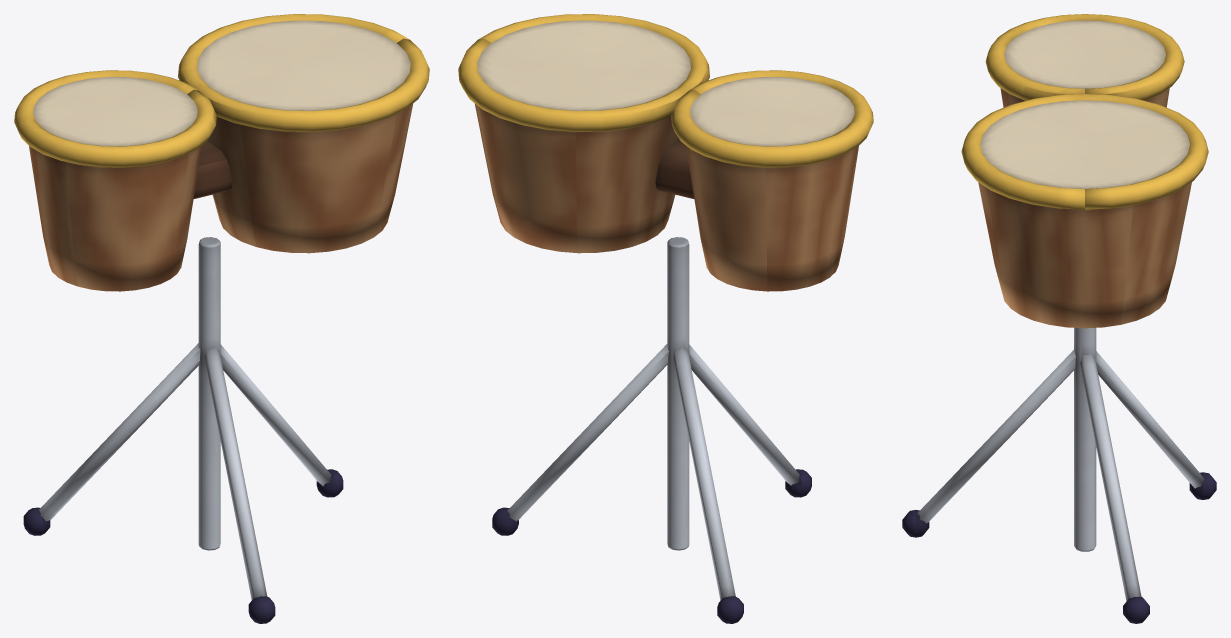
Rendered from Bongos.fbx.
3 views of the same model, side by side, from view 1: azimuth 30°, elevation 25°; view 2: azimuth 150°, elevation 25°; view 3: azimuth 270°, elevation 25° (orthographic). The views are drawn at different scales.
Visible parts, largest first — view 1: Pad_61_Mesh, Pad_60_Mesh, Bongos_Body; view 2: Pad_61_Mesh, Pad_60_Mesh, Bongos_Body; view 3: Pad_61_Mesh, Bongos_Body, Pad_60_Mesh.
Boxes of the visible parts, bbox=[...] form: Pad_61_Mesh: bbox=[178, 14, 429, 253]; Pad_60_Mesh: bbox=[14, 70, 216, 291]; Bongos_Body: bbox=[23, 141, 343, 623]; Pad_61_Mesh: bbox=[458, 14, 709, 253]; Pad_60_Mesh: bbox=[671, 70, 873, 291]; Bongos_Body: bbox=[492, 141, 811, 623]; Pad_61_Mesh: bbox=[961, 94, 1208, 328]; Bongos_Body: bbox=[902, 327, 1216, 623]; Pad_60_Mesh: bbox=[985, 14, 1184, 107].
Size of the model in its own units: 0.553 by 0.638 by 0.3983.
